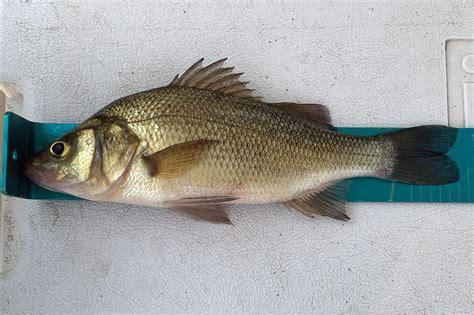Silver Perch: (19, 57, 462, 224)
